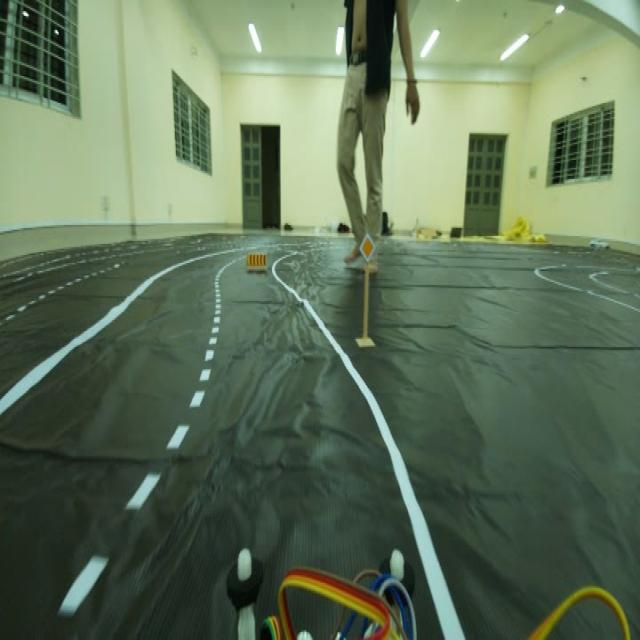priority: (358, 228, 374, 269)
